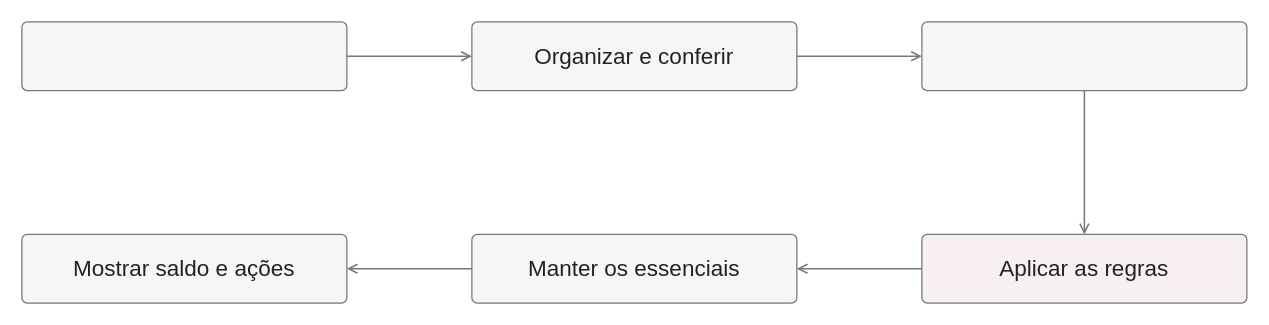
Image size: 1269x325. Some labels were removed from this diagram. The centre of each missing label's shape, as x and y in pixels:
"Calcular a previsão" belongs at pixel 1084 56.
"Receber os dados" belongs at pixel 184 56.
